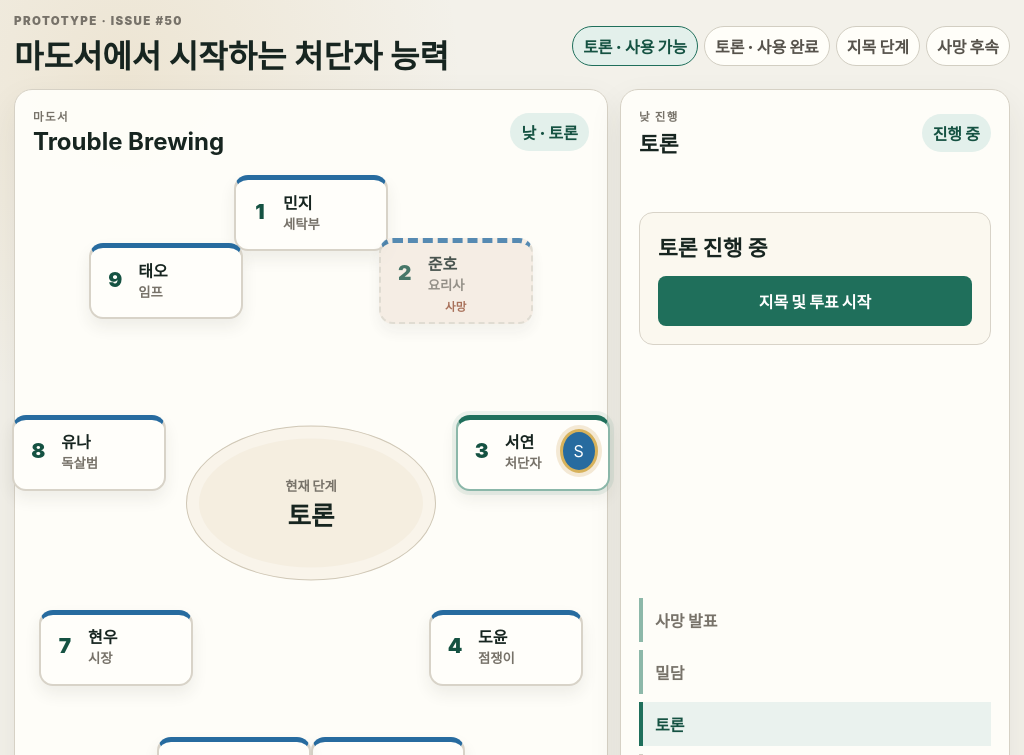
Test: opens the public ability only from the eligible Slayer icon
The width and height of the screenshot is (1024, 755).
Click the button named "3번 서연 처단자 능력 사용" at (579, 451), box [560, 429, 598, 473]
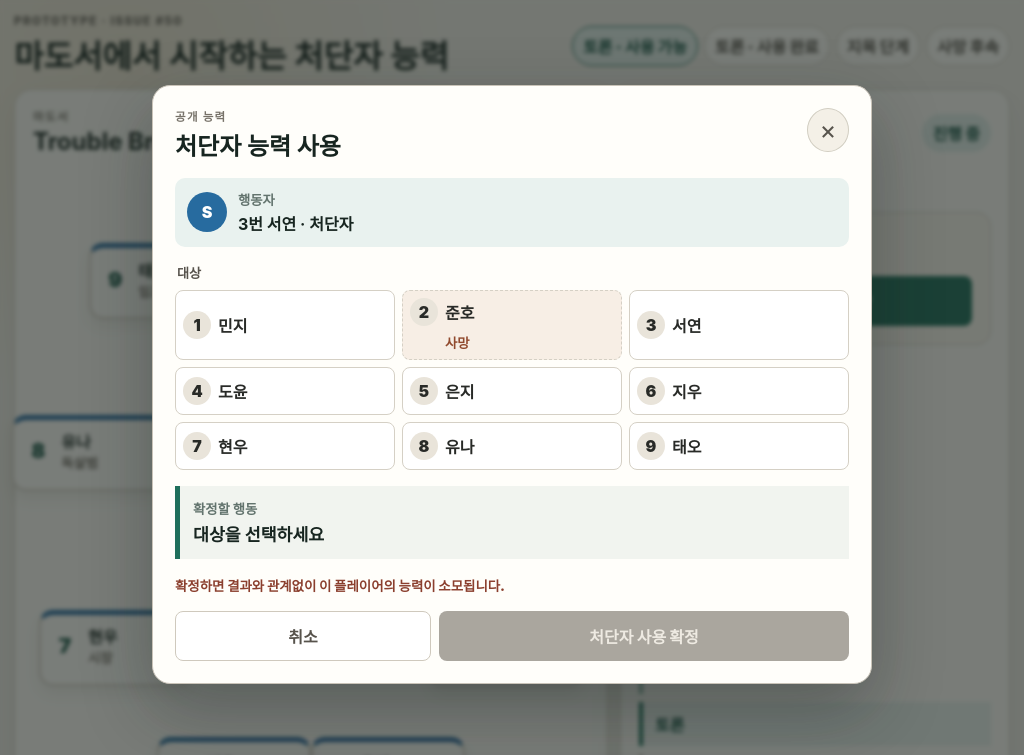
Expected: the text "3번 서연 · 처단자" is shown, [238, 210, 353, 234]
Expected: the text "확정하면 결과와 관계없이 이 플레이어의 능력이 소모됩니다." is shown, [175, 578, 505, 594]
Expected: the button "처단자 사용 확정" is disabled, [439, 610, 849, 660]
